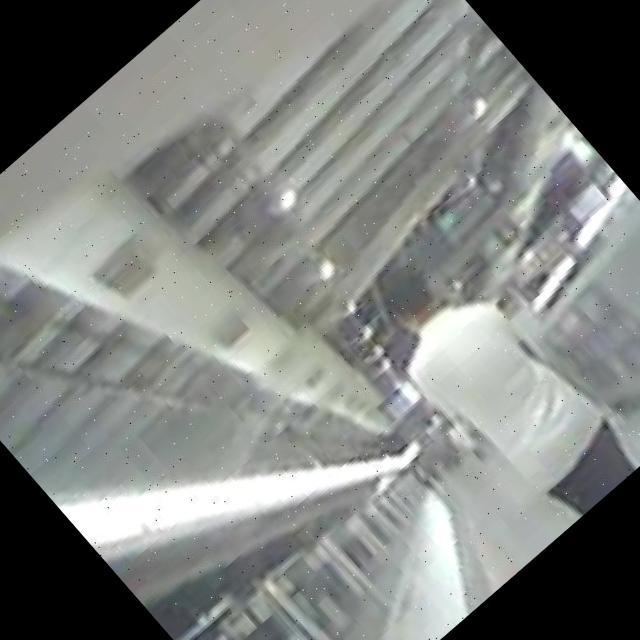person: (343, 220, 640, 544)
